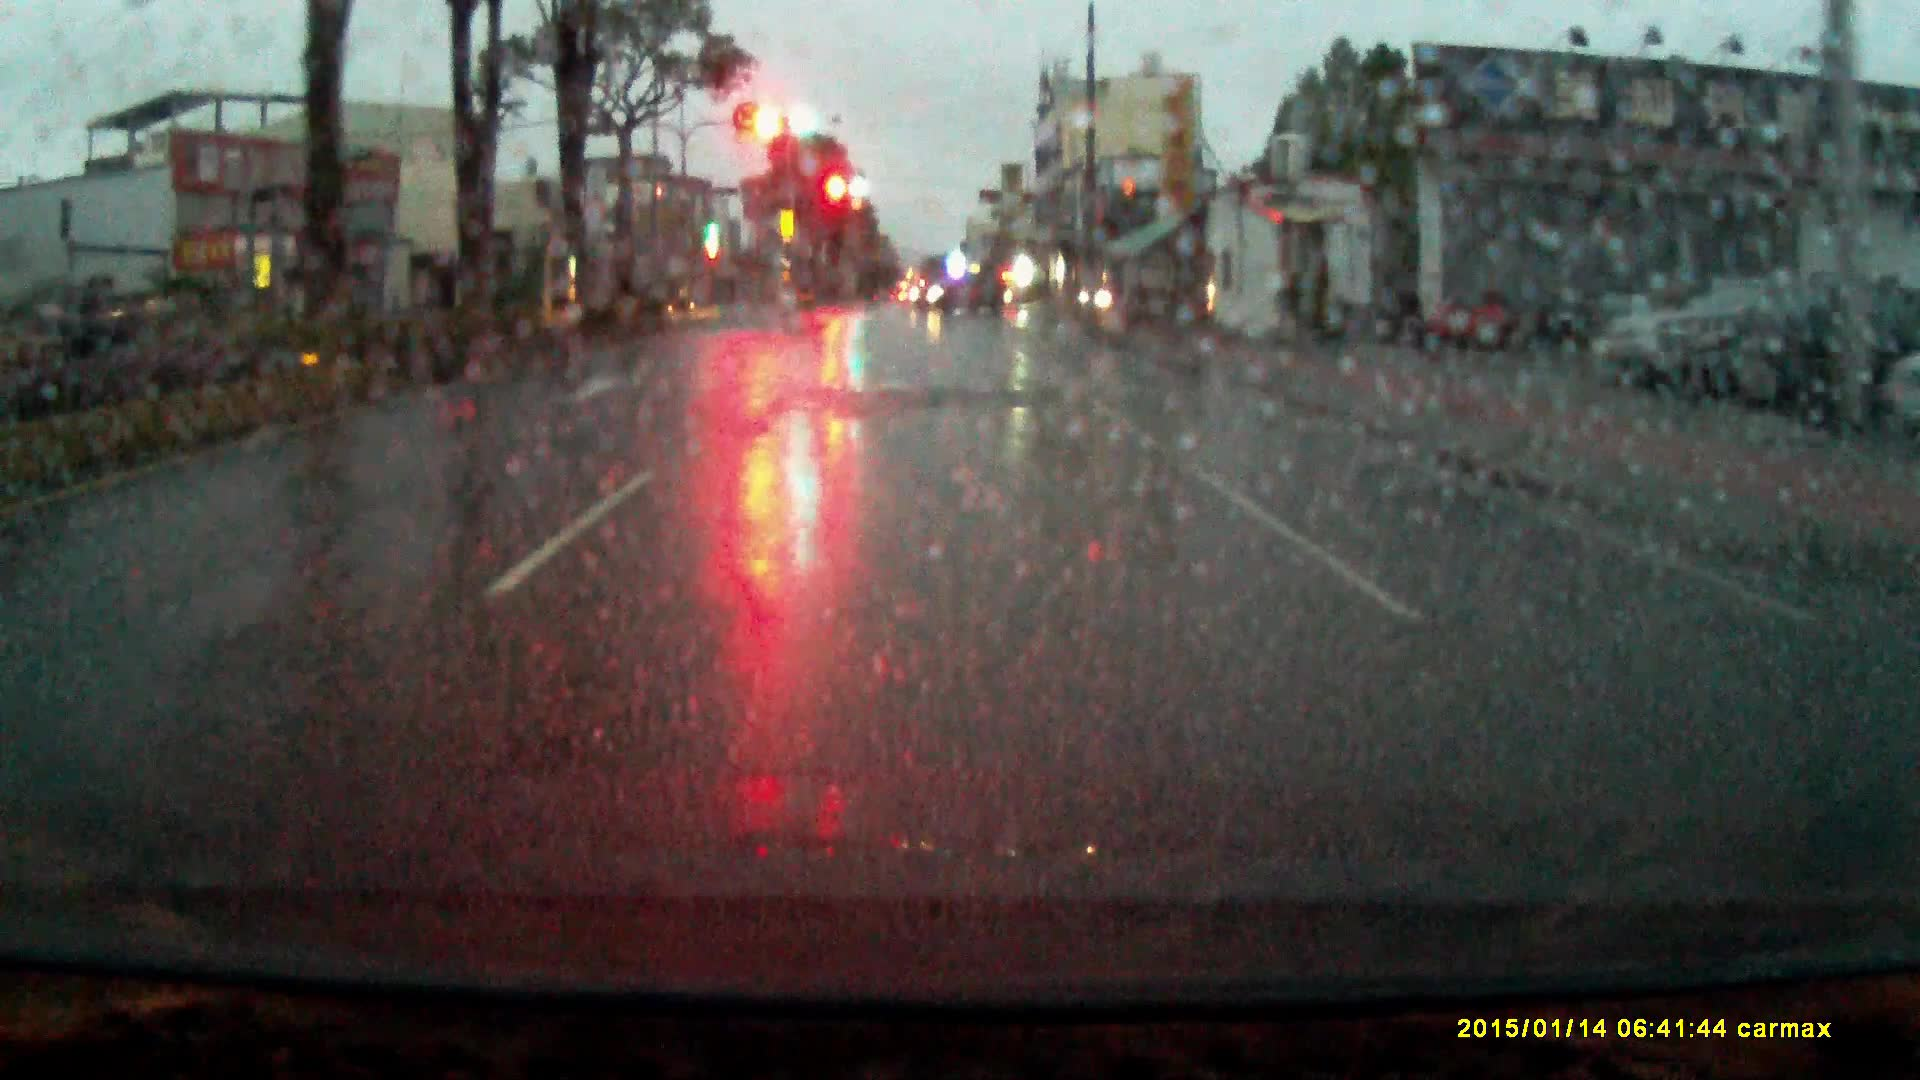vehicle: (1596, 277, 1898, 406), (1726, 277, 1920, 422), (911, 276, 1004, 319)
